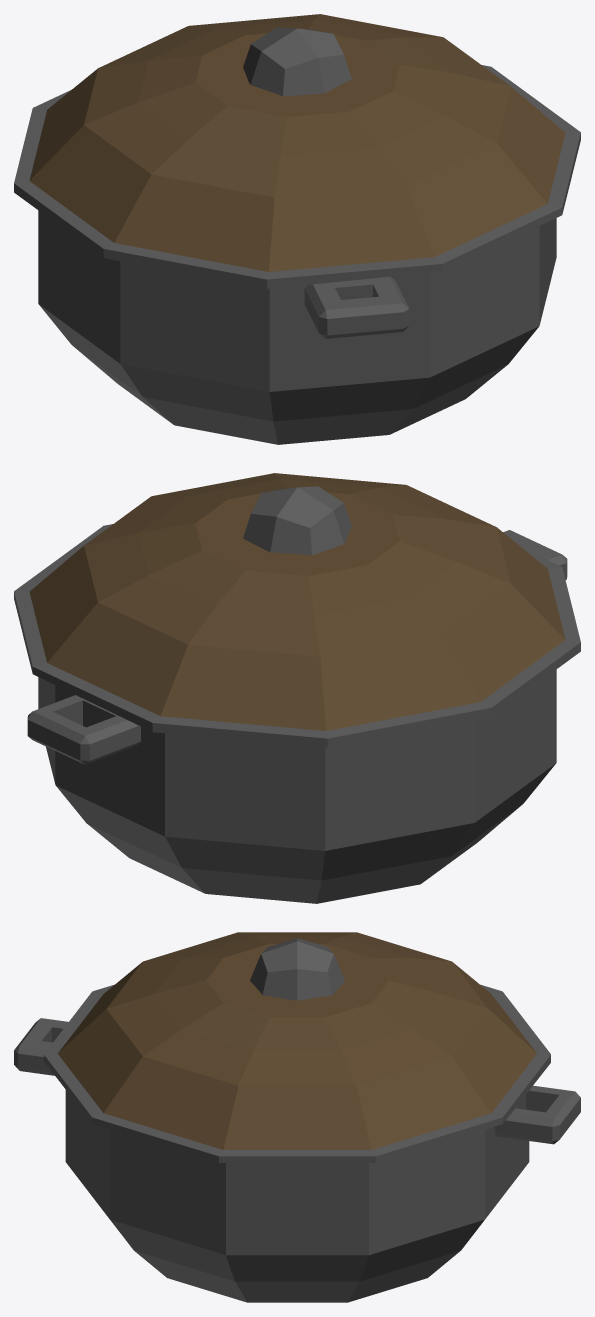
File: Кастрюля.fbx
The picture shows the model from 3 angles, top to bottom: view 1: azimuth 30°, elevation 25°; view 2: azimuth 150°, elevation 25°; view 3: azimuth 270°, elevation 25°; orthographic projection. The views are drawn at different scales.
Parts seen in each view (by area): view 1: Cube.002, Circle; view 2: Cube.002, Circle; view 3: Cube.002, Circle.
Boxes of the visible parts, <box> form: Cube.002: <box>29,14,565,271</box>; Circle: <box>14,65,580,444</box>; Cube.002: <box>29,473,565,730</box>; Circle: <box>14,524,580,903</box>; Cube.002: <box>57,932,537,1149</box>; Circle: <box>14,984,580,1302</box>.
Size of the model in its own units: 188 by 127 by 221.
